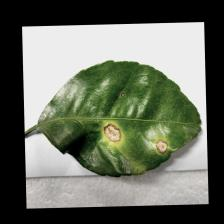canker: (87, 82, 171, 161)
